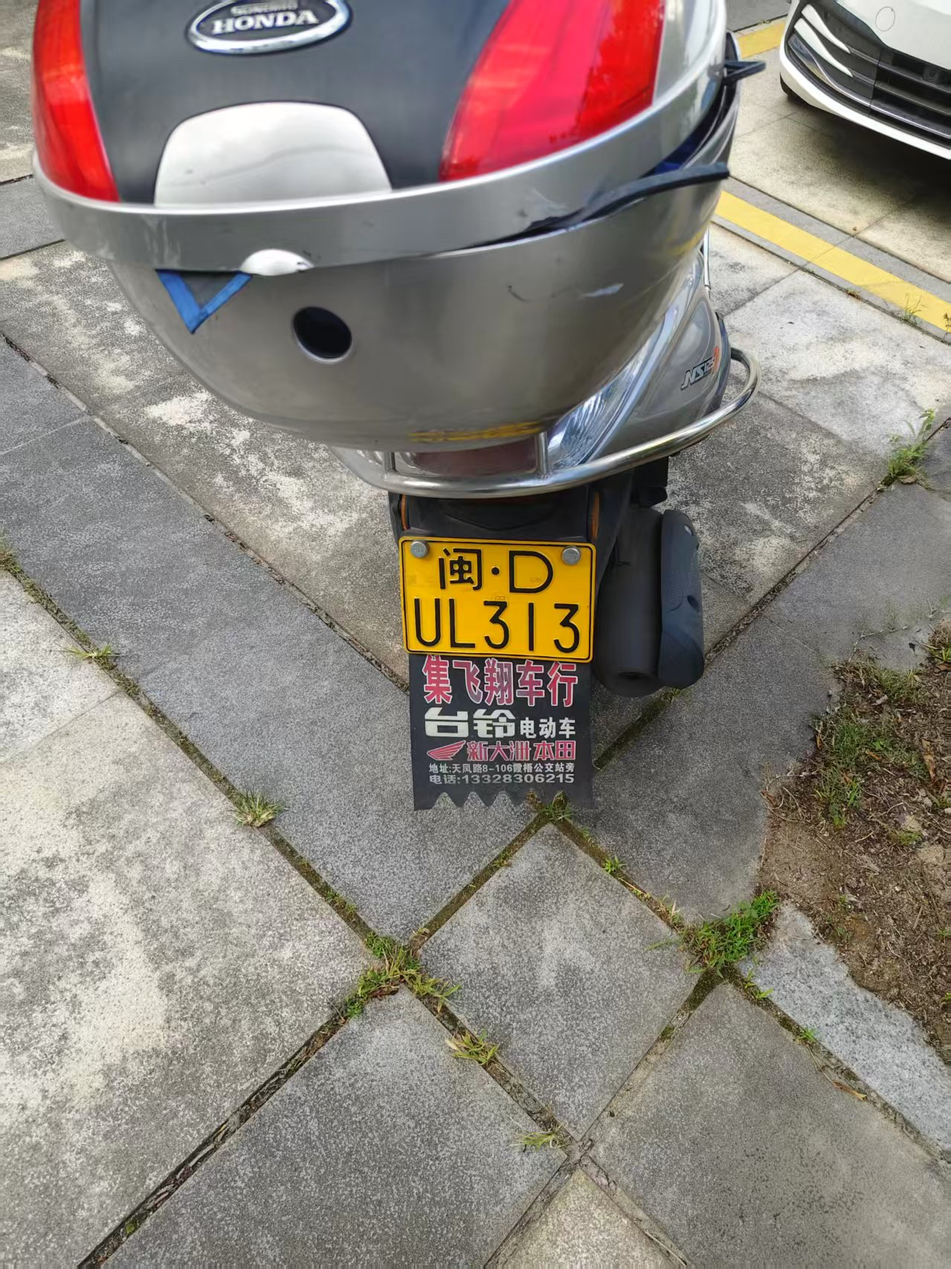plate: (393, 547, 596, 662)
